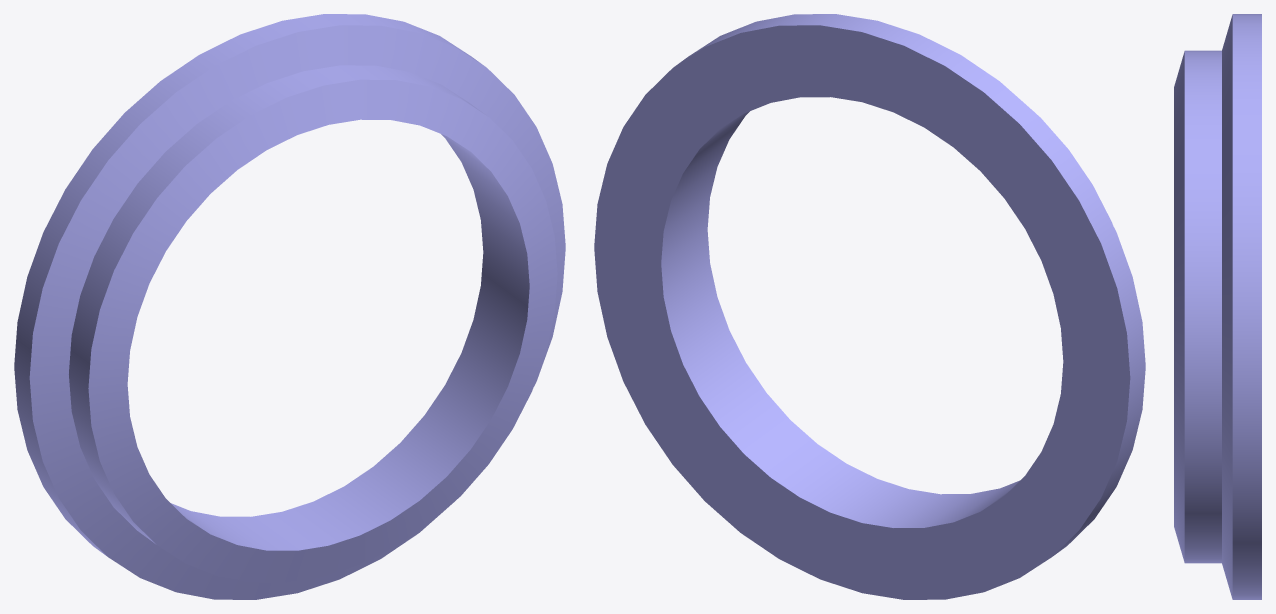
The model's file is original-135.obj.
3 views of the same model, side by side, from view 1: azimuth 30°, elevation 25°; view 2: azimuth 150°, elevation 25°; view 3: azimuth 270°, elevation 25° (orthographic). The views are drawn at different scales.
Parts seen in each view (by area): view 1: Group_11_5/mesh230/mesh230-geometry#mesh230-geometry; view 2: Group_11_5/mesh230/mesh230-geometry#mesh230-geometry; view 3: Group_11_5/mesh230/mesh230-geometry#mesh230-geometry.
Boxes of the visible parts, x1=… form: Group_11_5/mesh230/mesh230-geometry#mesh230-geometry: x1=14, y1=14, x2=565, y2=599; Group_11_5/mesh230/mesh230-geometry#mesh230-geometry: x1=594, y1=14, x2=1145, y2=599; Group_11_5/mesh230/mesh230-geometry#mesh230-geometry: x1=1174, y1=14, x2=1261, y2=599.
Size of the model in its own units: 0.0828 by 0.0828 by 0.0124.
